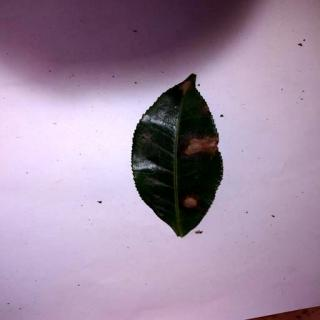Anthracnose: (132, 76, 222, 238)
